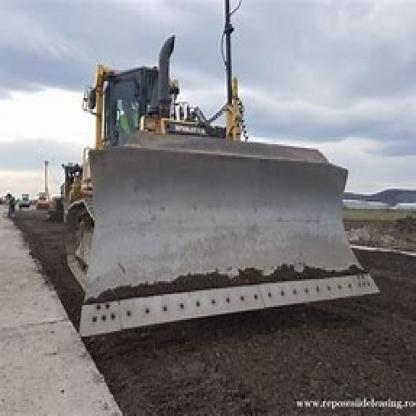bull_dozer/loader/grader: (40, 15, 386, 349)
